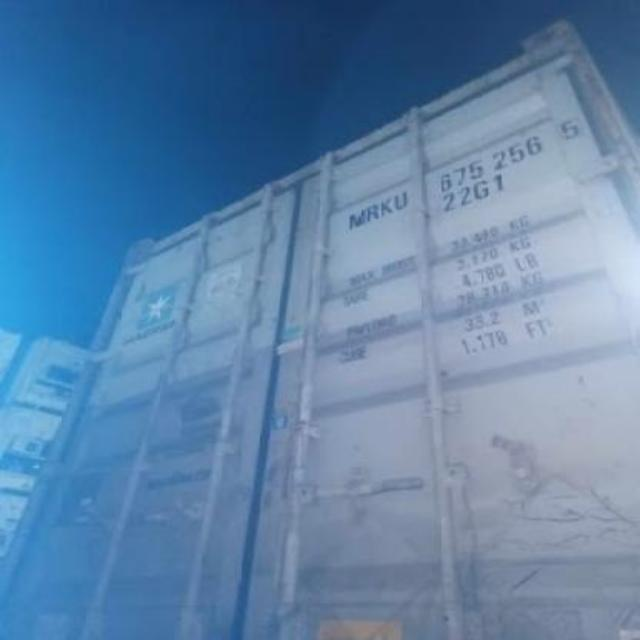2: (488, 148, 508, 170)
5: (506, 142, 526, 164), (558, 120, 582, 138), (468, 158, 486, 178)
6: (436, 172, 452, 192), (526, 135, 542, 155)
7: (452, 164, 466, 186)
K: (376, 198, 394, 214)
M: (346, 210, 364, 230)
R: (366, 206, 378, 220)
U: (396, 192, 408, 210)
